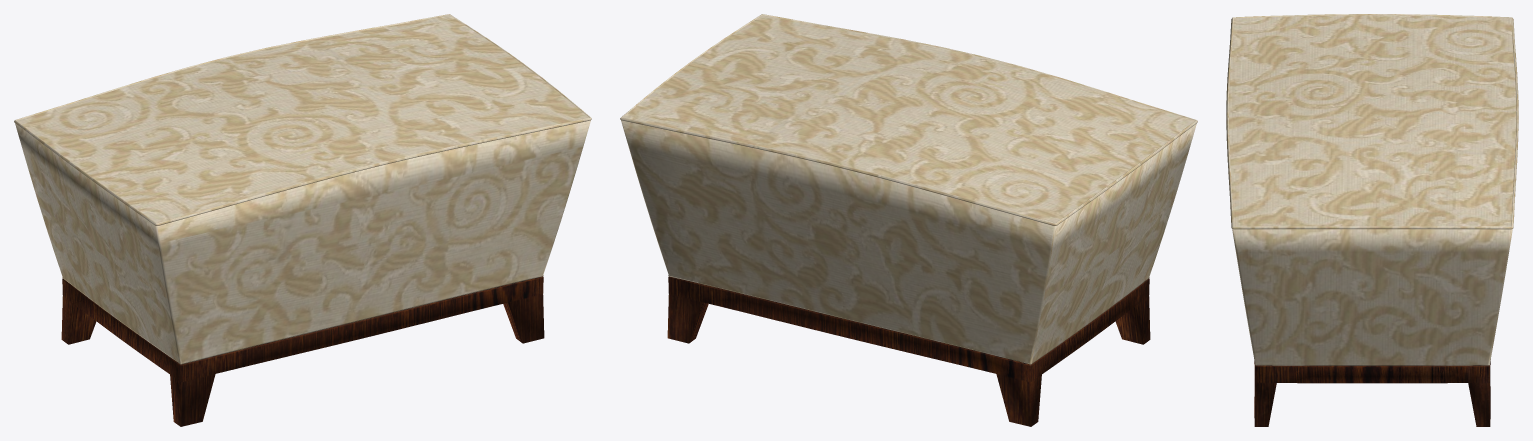
The model's file is Ottoman.obj.
3 views of the same model, side by side, from view 1: azimuth 30°, elevation 25°; view 2: azimuth 150°, elevation 25°; view 3: azimuth 270°, elevation 25° (orthographic).
Parts seen in each view (by area): view 1: Ottoman; view 2: Ottoman; view 3: Ottoman.
Boxes of the visible parts, box(x1,y1,x2,y2) form: Ottoman: box(14, 14, 591, 426); Ottoman: box(620, 14, 1197, 426); Ottoman: box(1226, 14, 1518, 426).
Size of the model in its own units: 3.6 by 1.82 by 2.08.
